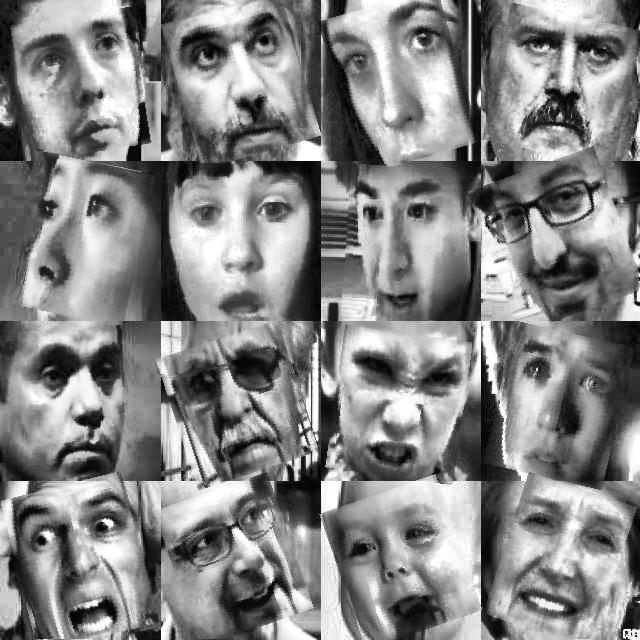angry: (488, 9, 636, 161), (330, 329, 468, 481), (343, 165, 462, 320)
fear: (8, 477, 150, 640), (168, 163, 312, 317)
happy: (479, 155, 635, 325), (329, 481, 472, 640), (164, 480, 304, 640), (493, 479, 627, 640)
neutral: (328, 0, 471, 167), (169, 0, 312, 162), (12, 155, 148, 322), (165, 328, 311, 482), (15, 10, 151, 158), (20, 326, 136, 479)
sad: (491, 327, 627, 485)
